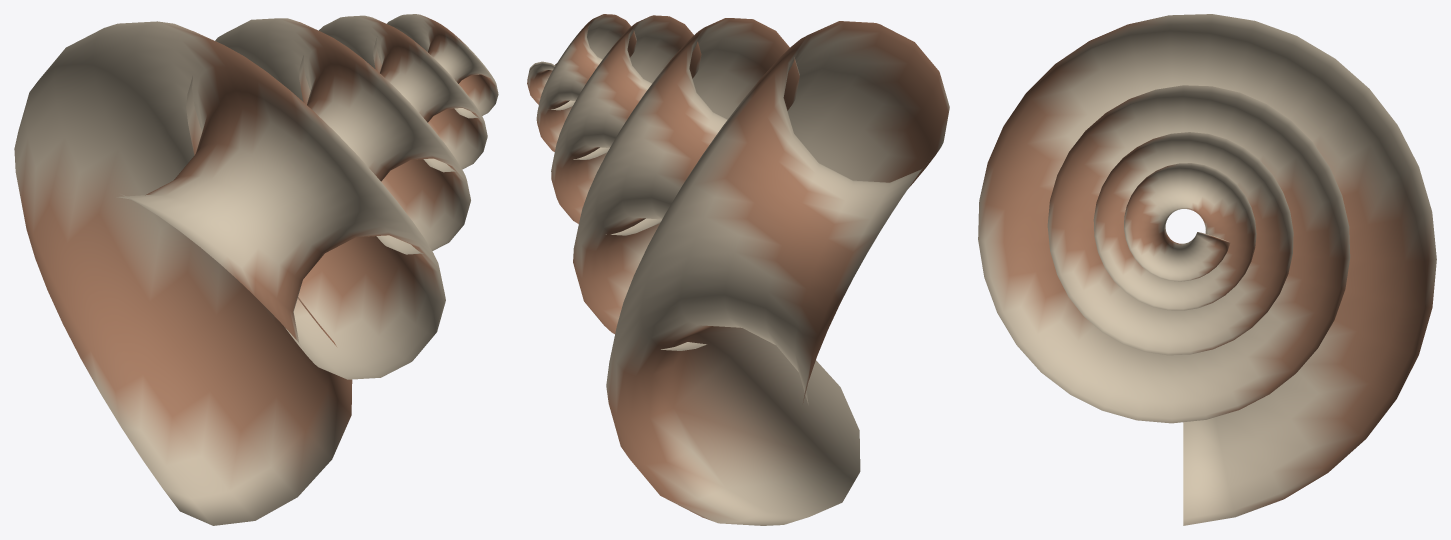
File: beach-spiral.glb
The picture shows the model from 3 angles, left to right: view 1: azimuth 30°, elevation 25°; view 2: azimuth 150°, elevation 25°; view 3: azimuth 270°, elevation 25°; orthographic projection. The views are drawn at different scales.
Parts seen in each view (by area): view 1: Beach_spiral; view 2: Beach_spiral; view 3: Beach_spiral.
Part boxes in pixels (left/top/right/bottom): Beach_spiral: left=14, top=14, right=498, bottom=525; Beach_spiral: left=527, top=14, right=949, bottom=525; Beach_spiral: left=978, top=14, right=1436, bottom=525.
Bounding box in the file's own units: 0.9321 × 1.11 × 1.
